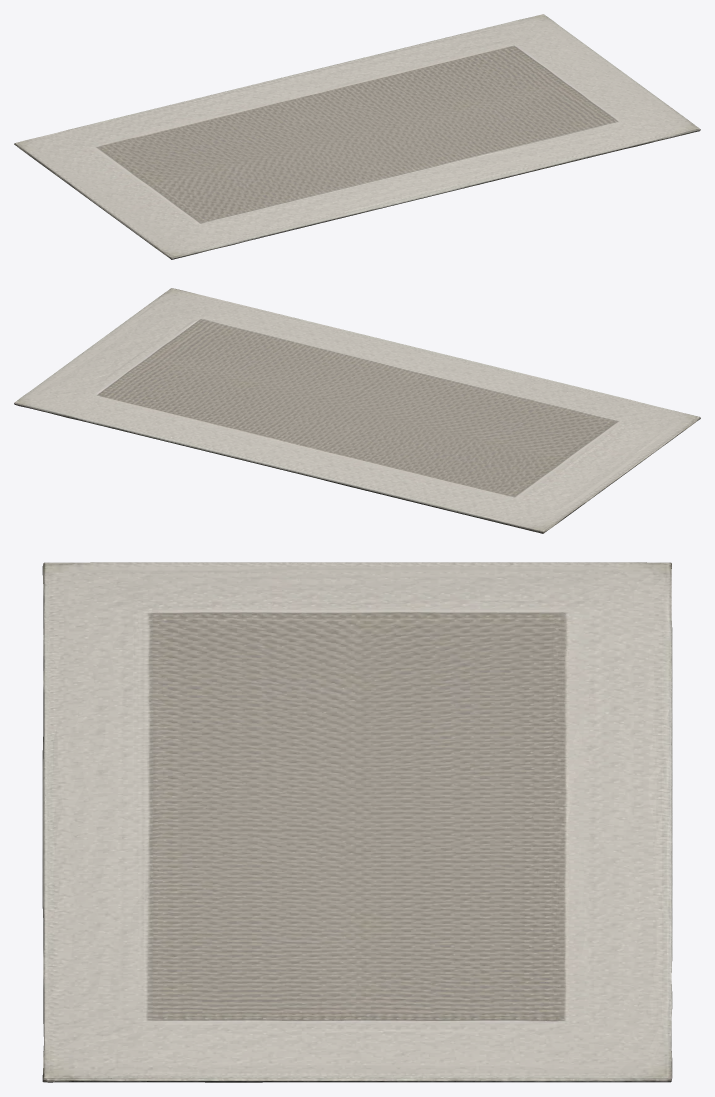
The picture shows the model from 3 angles, top to bottom: view 1: azimuth 30°, elevation 25°; view 2: azimuth 150°, elevation 25°; view 3: azimuth 270°, elevation 25°; orthographic projection. The views are drawn at different scales.
Parts seen in each view (by area): view 1: world; view 2: world; view 3: world.
Part boxes in pixels (box(x1,y1,x2,y2)): world: box(14, 14, 700, 259); world: box(14, 288, 700, 533); world: box(42, 562, 672, 1082).
Bounding box in the file's own units: 1 × 0.00783 × 0.515.
Materials: 1 (1 with a texture image).
